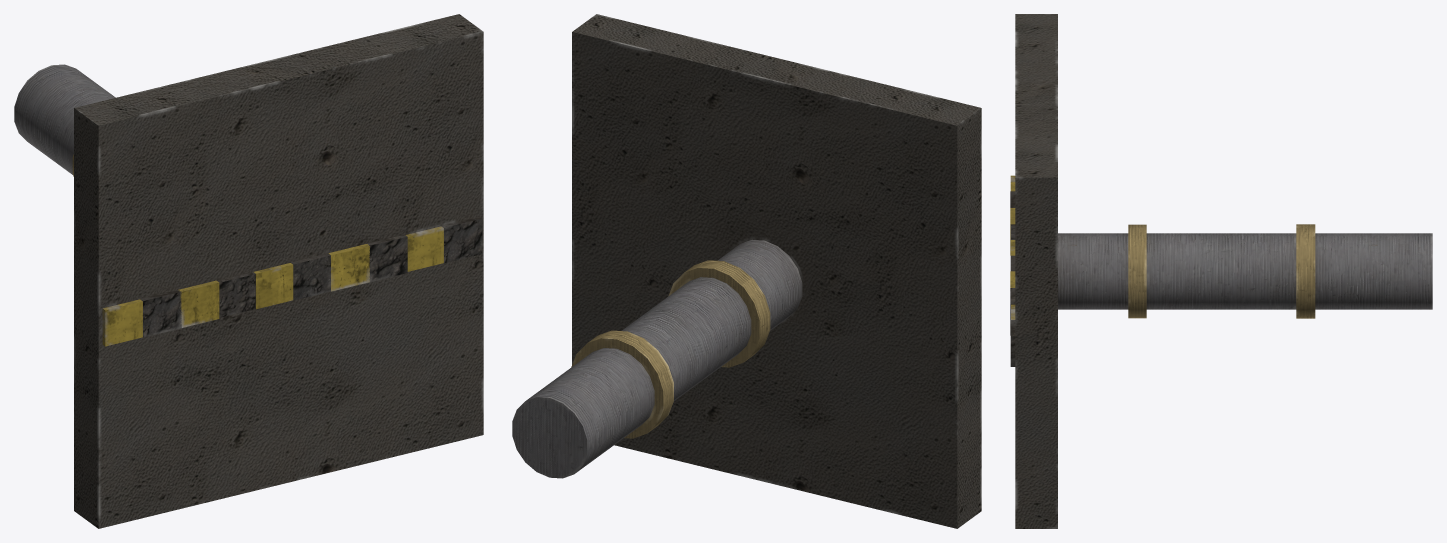
File: fePistonHead_HD.fbx
3 views of the same model, side by side, from view 1: azimuth 30°, elevation 25°; view 2: azimuth 150°, elevation 25°; view 3: azimuth 270°, elevation 25° (orthographic). The views are drawn at different scales.
Visible parts, largest first — view 1: fePistonHead_Base; view 2: fePistonHead_Base; view 3: fePistonHead_Base.
Part boxes in pixels (bbox=[...]): fePistonHead_Base: bbox=[14, 14, 483, 528]; fePistonHead_Base: bbox=[512, 14, 981, 528]; fePistonHead_Base: bbox=[1010, 14, 1432, 528].
Size of the model in its own units: 0.9212 by 0.9212 by 1.
Materials: 1 (1 with a texture image).
